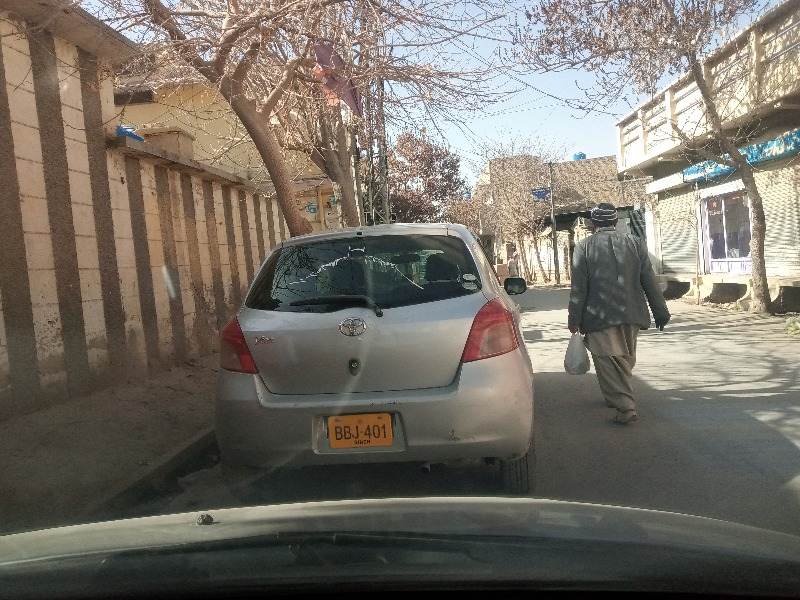License Plate: (325, 411, 396, 452)
